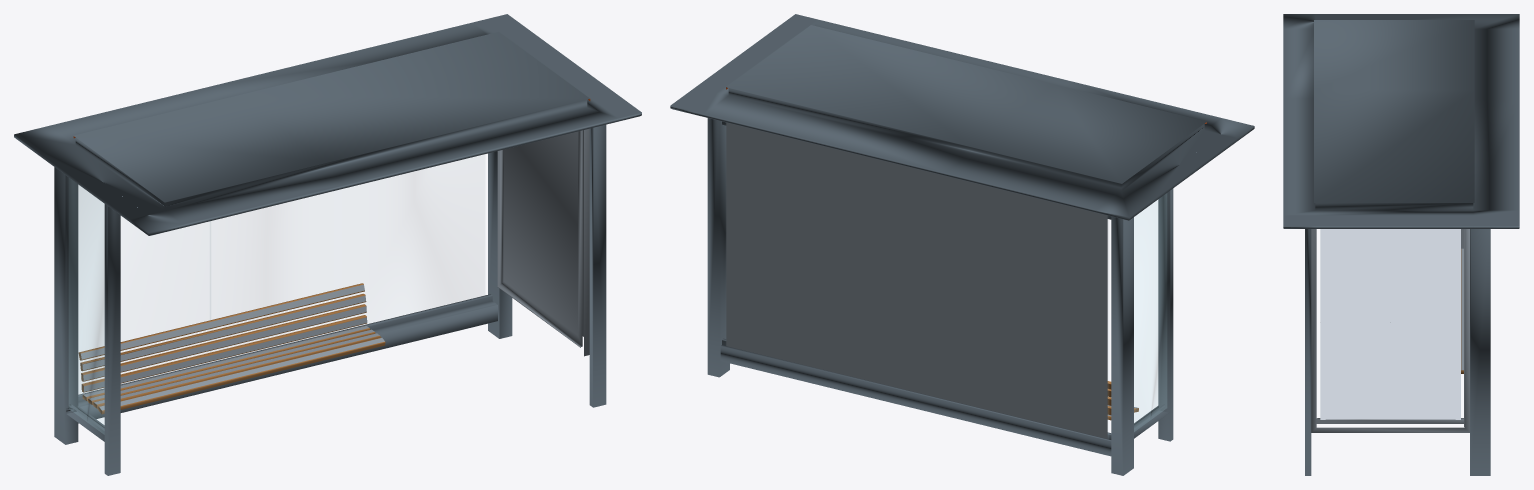
File: bus_stop.glb
3 views of the same model, side by side, from view 1: azimuth 30°, elevation 25°; view 2: azimuth 150°, elevation 25°; view 3: azimuth 270°, elevation 25° (orthographic). The views are drawn at different scales.
Visible parts, largest first — view 1: bus_stop; view 2: bus_stop; view 3: bus_stop.
Boxes of the visible parts, left/top/right/bottom form: bus_stop: left=14, top=14, right=641, bottom=475; bus_stop: left=670, top=14, right=1254, bottom=475; bus_stop: left=1283, top=14, right=1519, bottom=475.
Bounding box in the file's own units: 4.66 × 2.75 × 2.2.
